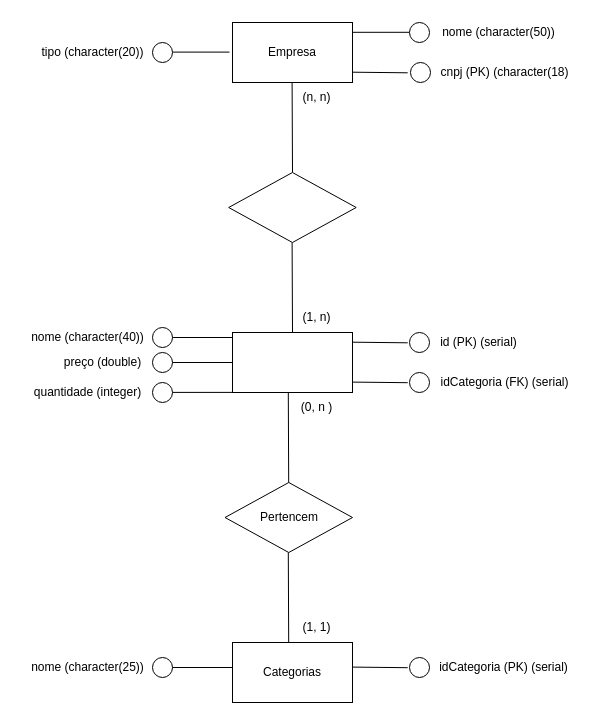
Image size: 596x720. Some labels were removed from this diagram. The shapes that lost their labels are listed below. From the top down, each one's box as (x1, y1, x2, y2) in pixels, then its label:
(228, 172, 356, 242): Destribuido
(232, 332, 352, 392): Produto
